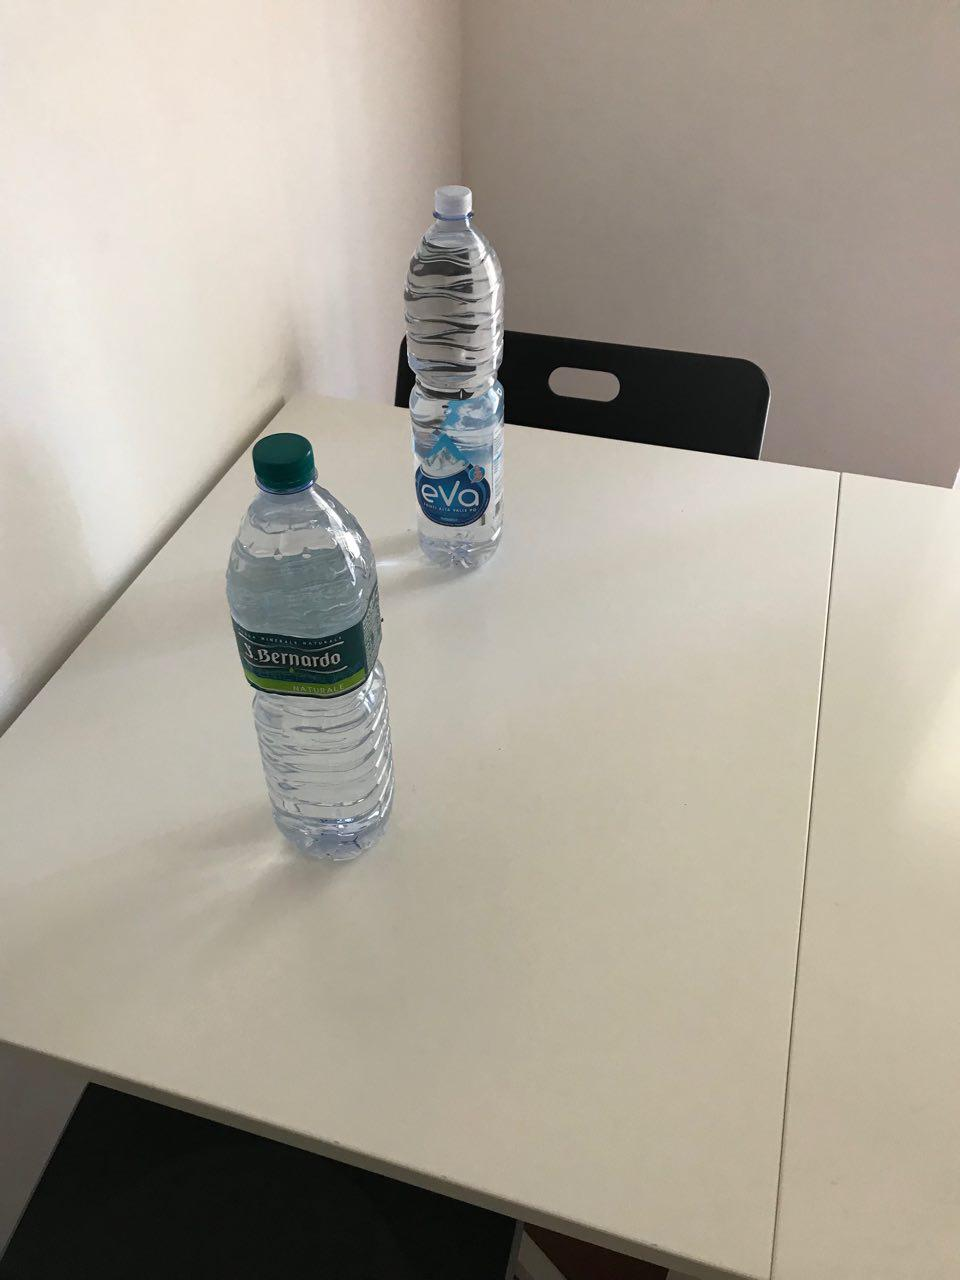san_bernardo: (223, 431, 396, 864)
